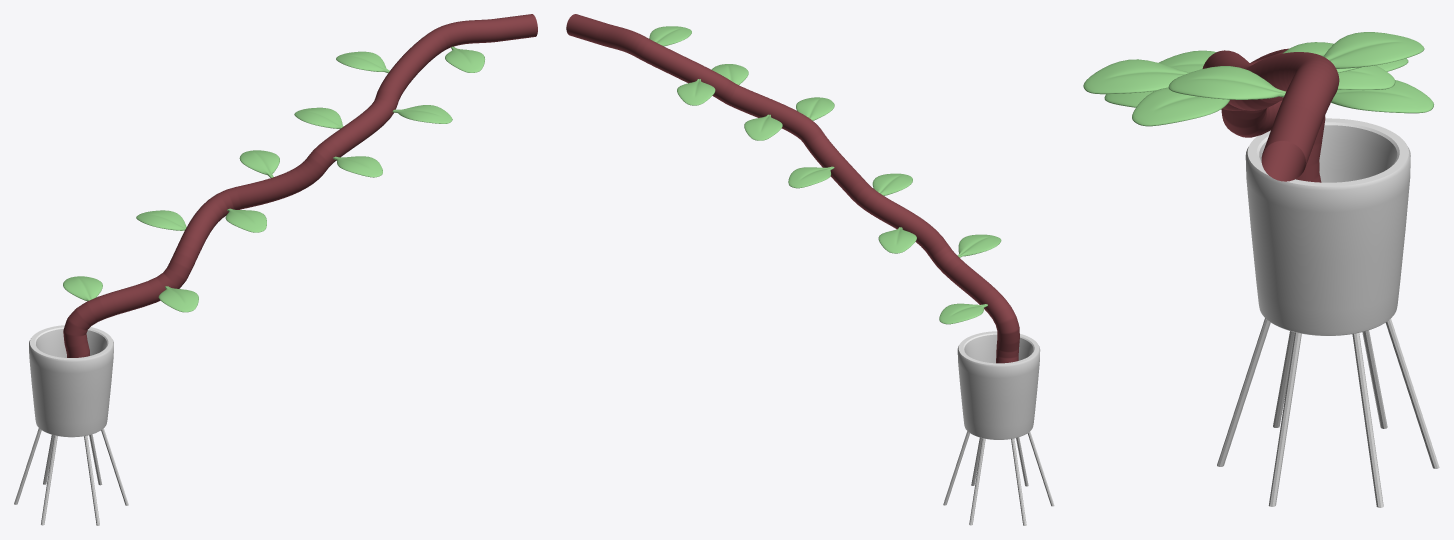
File: tree.fbx
3 renders of one model, left to right at view 1: azimuth 30°, elevation 25°; view 2: azimuth 150°, elevation 25°; view 3: azimuth 270°, elevation 25°, orthographic. The views are drawn at different scales.
Visible parts, largest first — view 1: Circle, Cylinder.001, Plane.010, Plane.007, Plane.005, Plane.008, Plane.004, Plane.001, Plane.006, Plane.003, Plane.009, Plane.002 (+1 smaller); view 2: Circle, Cylinder.001, Plane.010, Plane, Plane.004, Plane.001, Plane.008, Plane.006, Plane.002, Plane.003, Plane.005, Plane.009; view 3: Cylinder.001, Circle, Plane.010, Plane.009, Plane.008, Plane.005, Plane.007, Plane, Plane.004, Plane.003, Plane.006, Plane.001.
Boxes of the visible parts, <box> form: Circle: <box>63,14,537,357</box>; Cylinder.001: <box>29,325,113,437</box>; Plane.010: <box>14,428,128,525</box>; Plane.007: <box>392,105,452,123</box>; Plane.005: <box>333,156,382,177</box>; Plane.008: <box>336,51,389,72</box>; Plane.004: <box>239,150,279,177</box>; Plane.001: <box>158,286,198,312</box>; Plane.006: <box>294,107,343,128</box>; Plane.003: <box>225,208,266,232</box>; Plane.009: <box>445,46,484,72</box>; Plane.002: <box>136,210,186,230</box>; Circle: <box>566,14,1019,363</box>; Cylinder.001: <box>957,331,1040,439</box>; Plane.010: <box>943,431,1054,525</box>; Plane: <box>939,303,987,324</box>; Plane.004: <box>788,166,834,188</box>; Plane.001: <box>957,234,1001,257</box>; Plane.008: <box>677,79,715,105</box>; Plane.006: <box>744,114,782,140</box>; Plane.002: <box>878,227,916,253</box>; Plane.003: <box>872,173,912,195</box>; Plane.005: <box>796,97,834,120</box>; Plane.009: <box>649,26,691,46</box>; Cylinder.001: <box>1245,118,1410,335</box>; Circle: <box>1202,48,1339,182</box>; Plane.010: <box>1217,318,1439,507</box>; Plane.009: <box>1168,66,1285,99</box>; Plane.008: <box>1323,32,1424,68</box>; Plane.005: <box>1083,59,1189,94</box>; Plane.007: <box>1132,87,1229,126</box>; Plane: <box>1331,80,1433,113</box>; Plane.004: <box>1338,65,1395,90</box>; Plane.003: <box>1158,50,1216,72</box>; Plane.006: <box>1282,42,1360,72</box>; Plane.001: <box>1104,91,1154,107</box>.
Bounding box in the file's own units: 7656 × 5772 × 2458.
